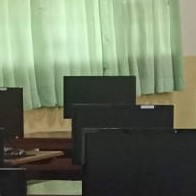monitor: (63, 75, 137, 119), (0, 87, 24, 139)
